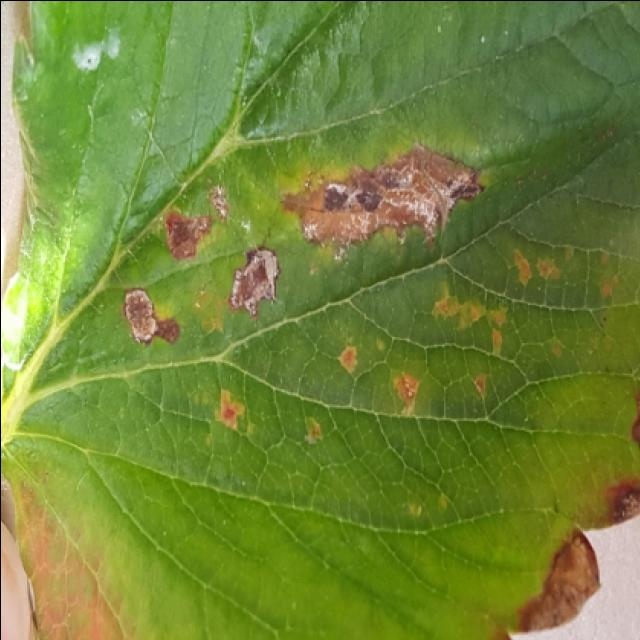Angular Leafspot: (91, 123, 633, 532)
